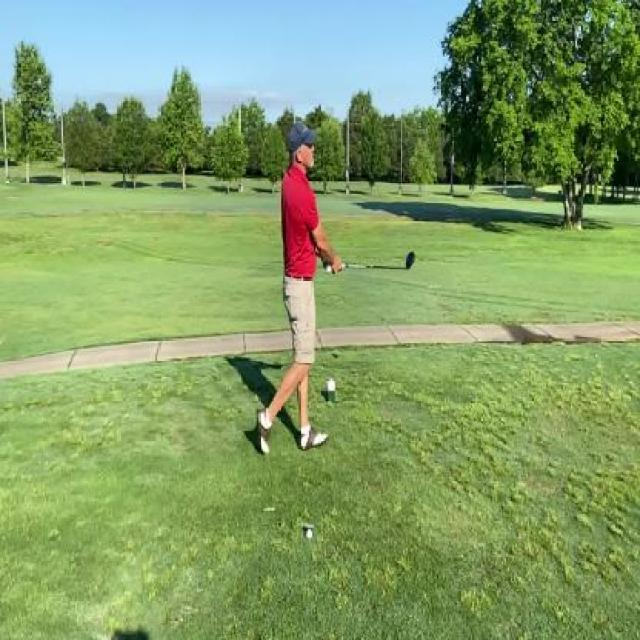club head: (402, 251, 415, 271)
